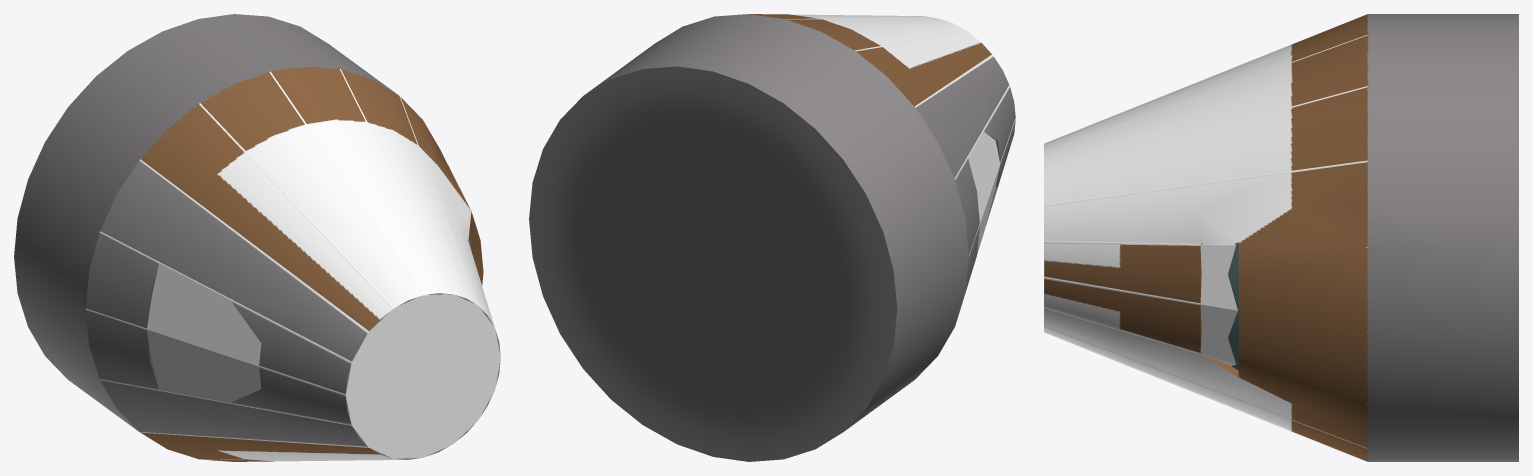
3 views of the same model, side by side, from view 1: azimuth 30°, elevation 25°; view 2: azimuth 150°, elevation 25°; view 3: azimuth 270°, elevation 25° (orthographic). The views are drawn at different scales.
Parts seen in each view (by area): view 1: Capsule, col_main; view 2: Capsule, col_main; view 3: Capsule, col_main.
Boxes of the visible parts, x1,y1,x2,y2 form: Capsule: [14, 14, 500, 461]; col_main: [85, 69, 500, 459]; Capsule: [529, 14, 1015, 461]; col_main: [714, 16, 1015, 256]; Capsule: [1044, 14, 1518, 461]; col_main: [1044, 14, 1367, 460].
Bounding box in the file's own units: 2 × 2 × 2.12.
Materials: 2 (1 with a texture image).
